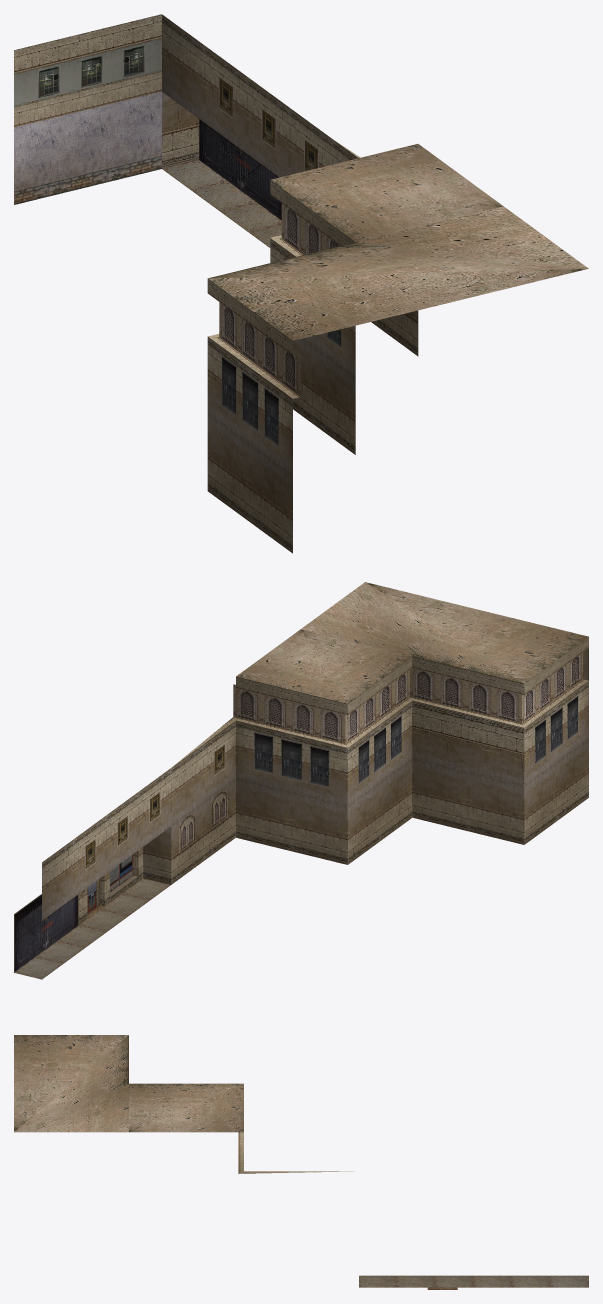
Rendered from M11Z1_TownWall07_D.glb.
The picture shows the model from 3 angles, top to bottom: view 1: azimuth 30°, elevation 25°; view 2: azimuth 150°, elevation 25°; view 3: azimuth 270°, elevation 25°; orthographic projection. The views are drawn at different scales.
Parts seen in each view (by area): view 1: M11Z1_TOWNWALL07_D; view 2: M11Z1_TOWNWALL07_D; view 3: M11Z1_TOWNWALL07_D.
Part boxes in pixels (box(x1,y1,x2,y2)): M11Z1_TOWNWALL07_D: box(14, 14, 588, 553); M11Z1_TOWNWALL07_D: box(14, 582, 588, 979); M11Z1_TOWNWALL07_D: box(14, 1035, 588, 1289).
Size of the model in its own units: 18.34 by 11 by 40.
Materials: 13 (13 with a texture image).
